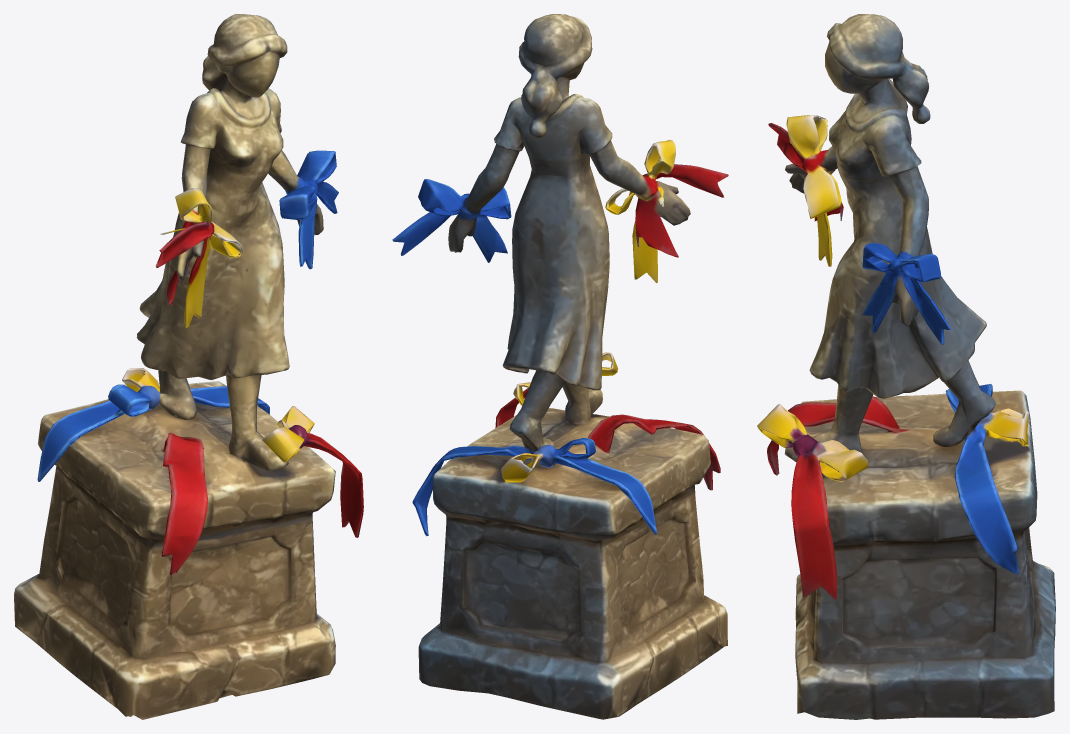
The model's file is willing-girl-ribbons.glb.
3 renders of one model, left to right at view 1: azimuth 30°, elevation 25°; view 2: azimuth 150°, elevation 25°; view 3: azimuth 270°, elevation 25°, orthographic. The views are drawn at different scales.
Bounding box in the file's own units: 1.5 × 3.2 × 1.29.
1 material, 1 textured.
